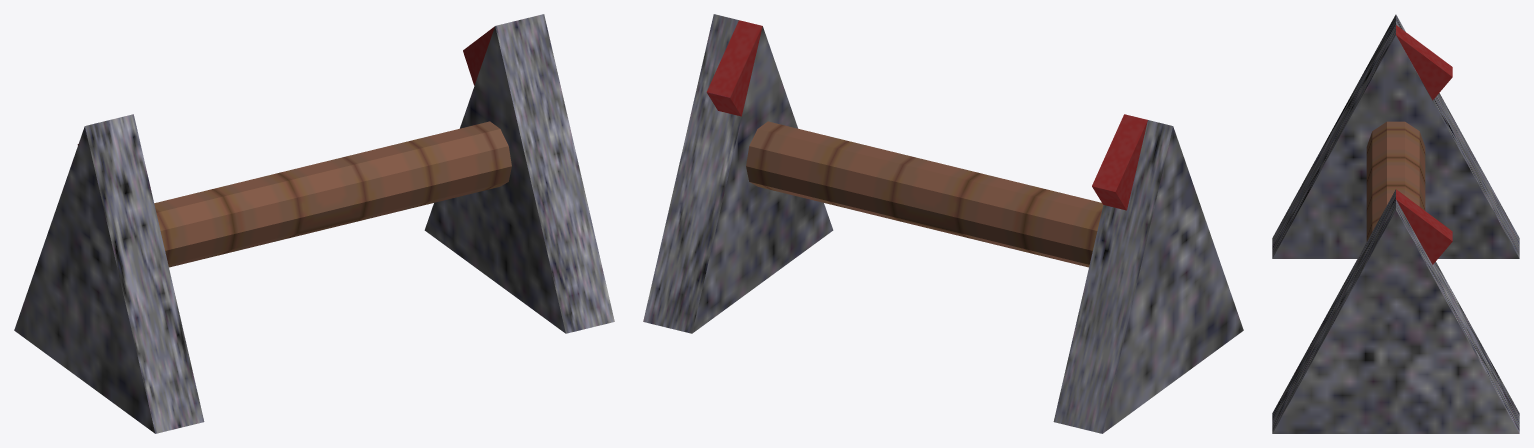
File: padlockholder.fbx
The picture shows the model from 3 angles, left to right: view 1: azimuth 30°, elevation 25°; view 2: azimuth 150°, elevation 25°; view 3: azimuth 270°, elevation 25°; orthographic projection. The views are drawn at different scales.
Visible parts, largest first — view 1: Padlock Holder; view 2: Padlock Holder; view 3: Padlock Holder.
Part boxes in pixels (left/top/right/bottom): Padlock Holder: left=14, top=14, right=614, bottom=433; Padlock Holder: left=643, top=14, right=1243, bottom=433; Padlock Holder: left=1272, top=14, right=1519, bottom=433.
Bounding box in the file's own units: 0.7835 × 0.4175 × 0.4175.
Materials: 3 (3 with a texture image).
